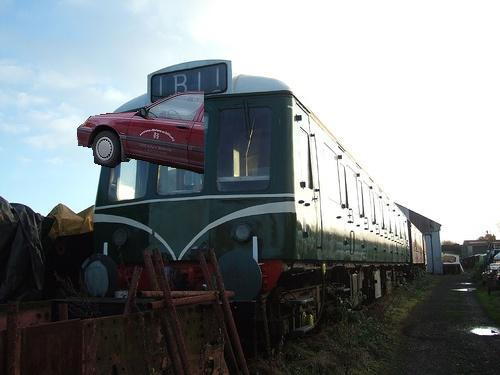tampered: (78, 92, 204, 174)
